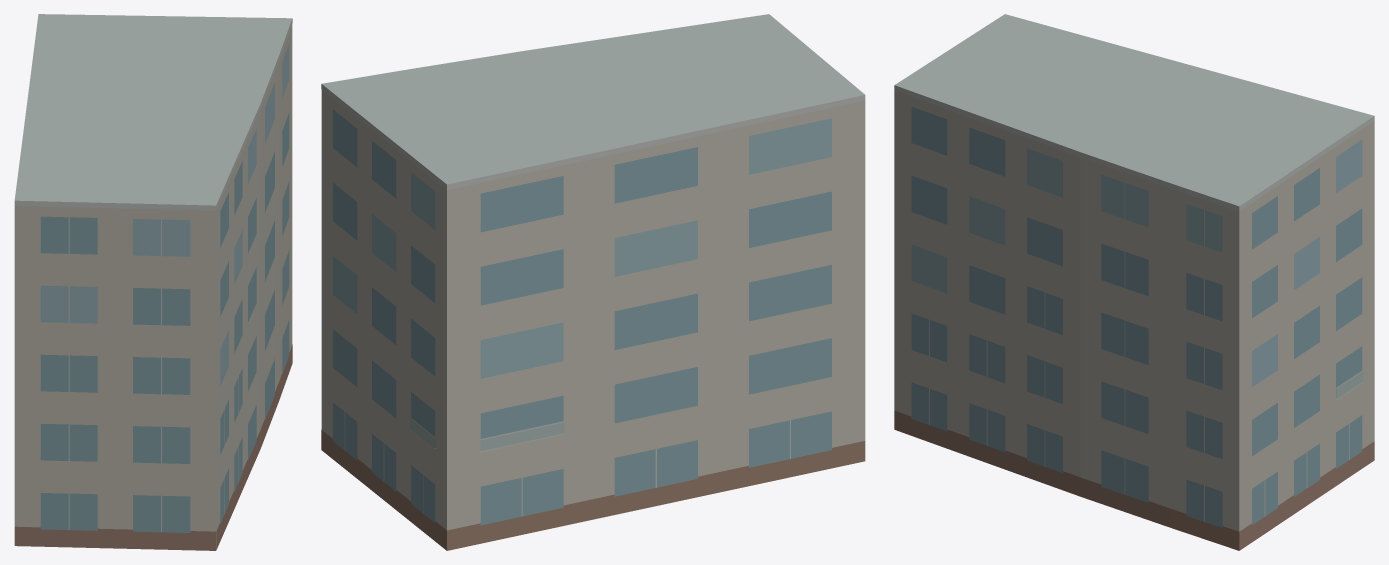
File: survey-upis-32512402.glb
The picture shows the model from 3 angles, left to right: view 1: azimuth 30°, elevation 25°; view 2: azimuth 150°, elevation 25°; view 3: azimuth 270°, elevation 25°; orthographic projection. The views are drawn at different scales.
Parts seen in each view (by area): view 1: survey-upis-32512402.tmp; view 2: survey-upis-32512402.tmp; view 3: survey-upis-32512402.tmp.
Boxes of the visible parts, x1,y1,x2,y2 form: survey-upis-32512402.tmp: (14, 14, 292, 550); survey-upis-32512402.tmp: (321, 14, 865, 550); survey-upis-32512402.tmp: (894, 14, 1374, 550).
Size of the model in its own units: 19.05 by 15.9 by 20.09.
